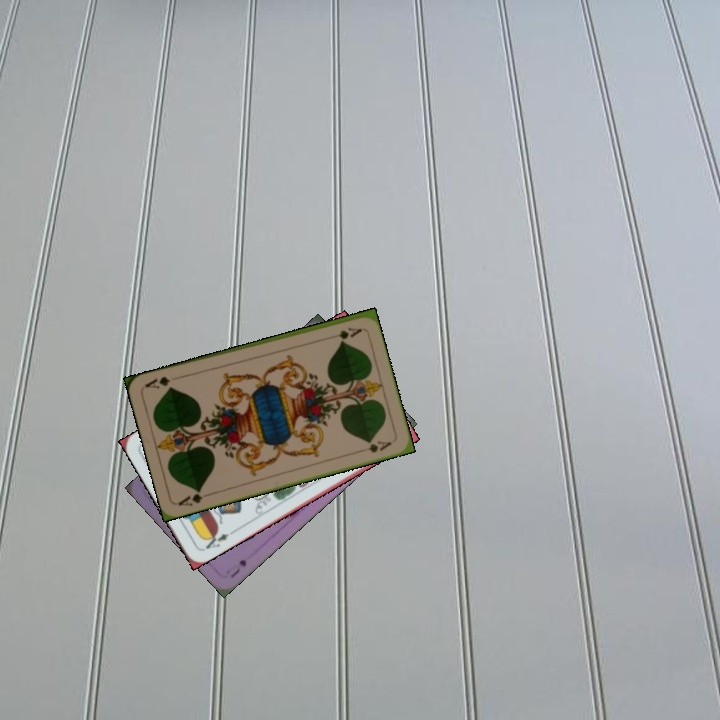EA: (199, 527, 236, 553)
GA: (174, 486, 214, 509), (324, 323, 364, 342)
SU: (222, 555, 249, 581)
